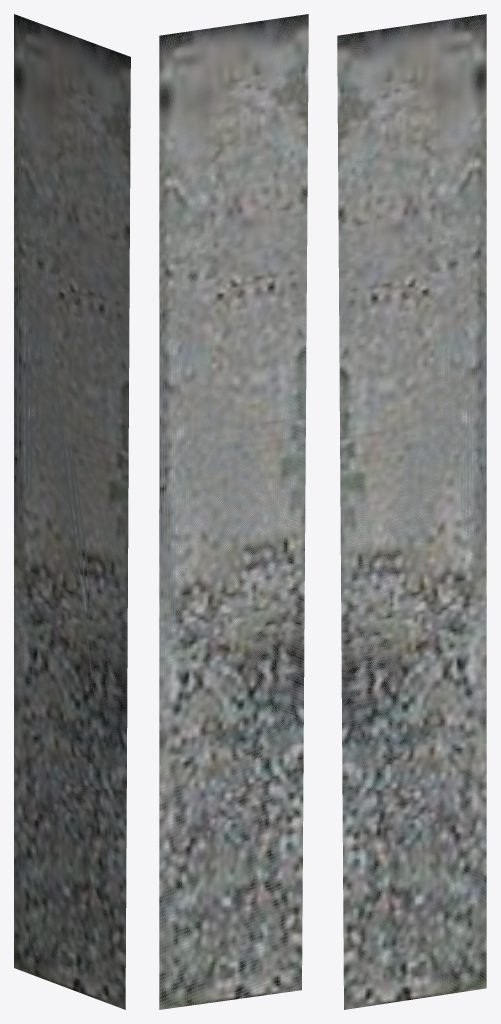
Rendered from 西庸城堡279.dae.
The picture shows the model from 3 angles, left to right: view 1: azimuth 90°, elevation 25°; view 2: azimuth 150°, elevation 25°; view 3: azimuth 330°, elevation 25°; orthographic projection. The views are drawn at different scales.
Visible parts, largest first — view 1: SketchUp; view 2: SketchUp; view 3: SketchUp.
Part boxes in pixels (x1,y1,x2,y2): SketchUp: (14,14,130,1009); SketchUp: (159,14,308,1009); SketchUp: (337,14,486,1009).
Size of the model in its own units: 61.36 by 70.49 by 636.
